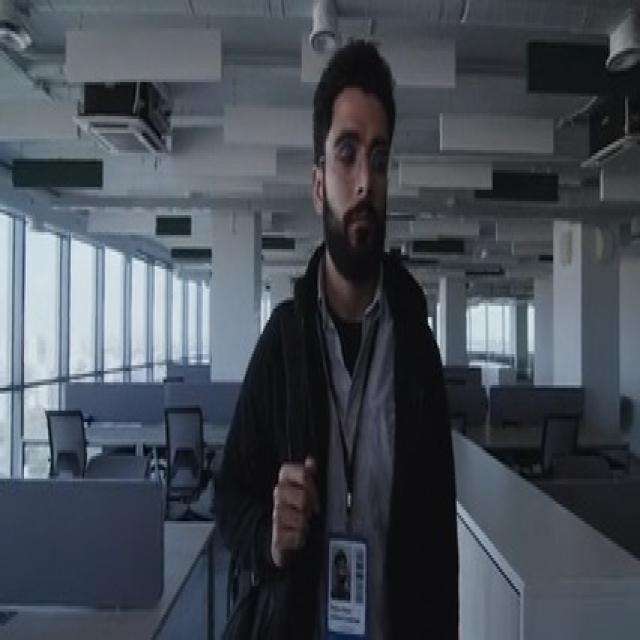Jacket_Wearer: (210, 232, 454, 640)
Person: (210, 35, 459, 640)
